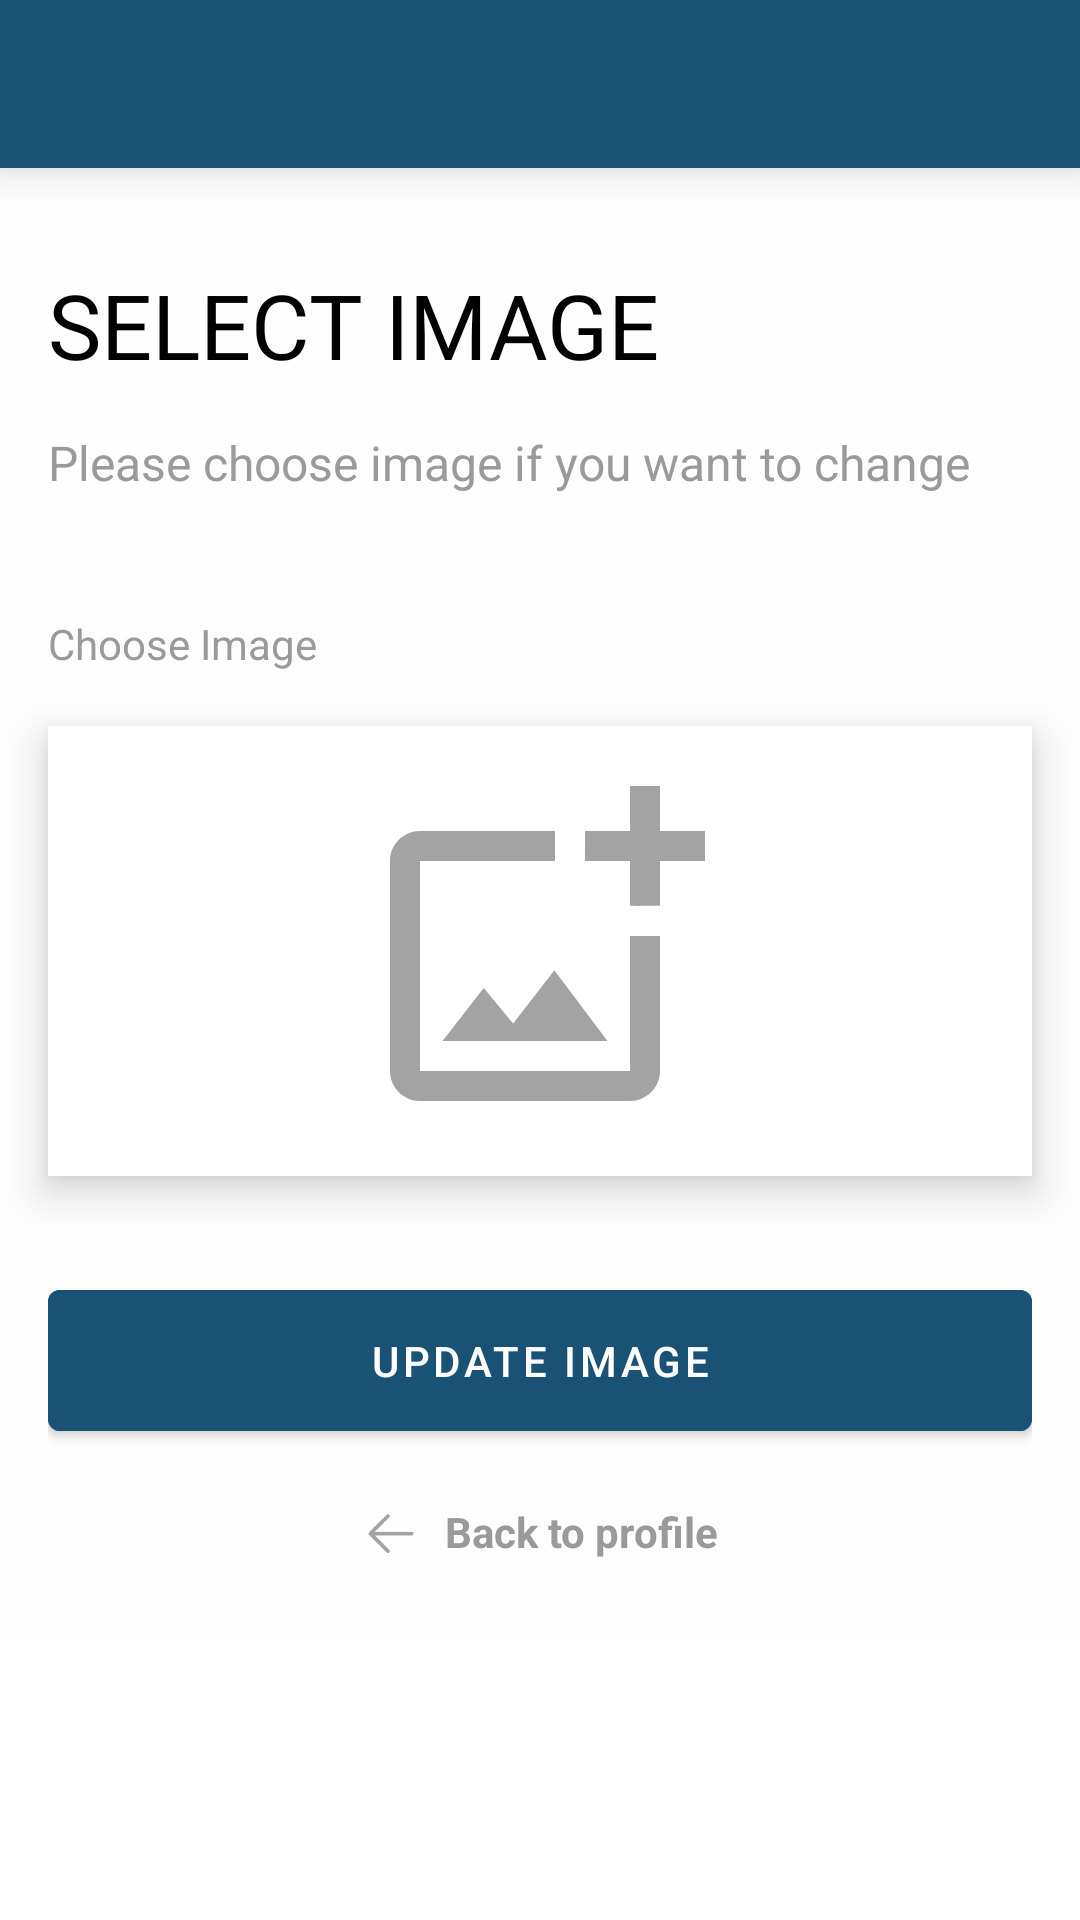

Icon bounding boxes for this 1080x1920 phone screenshot, format [x1, y1, x2, y2]:
arrow left: [368, 1514, 414, 1553]
